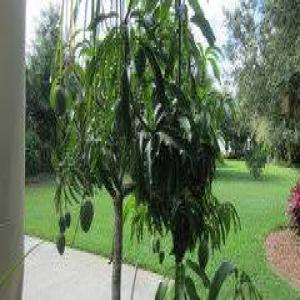Tree: (34, 0, 236, 296)
